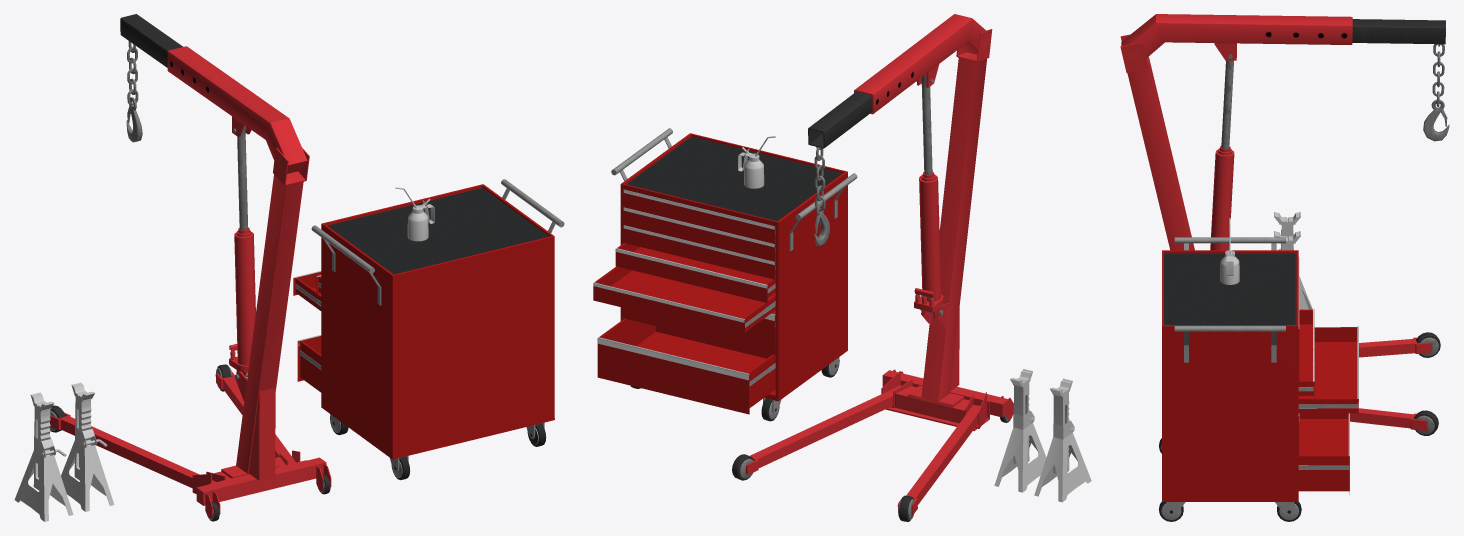
File: garage items.fbx
3 renders of one model, left to right at view 1: azimuth 30°, elevation 25°; view 2: azimuth 150°, elevation 25°; view 3: azimuth 270°, elevation 25°, orthographic. The views are drawn at different scales.
Visible parts, largest first — view 1: Cylinder.001, Cylinder.006, Cube.001, Cube.002, Cylinder.011; view 2: Cylinder.001, Cylinder.006, Cube.001, Cube.002, Cylinder.011; view 3: Cylinder.001, Cylinder.006, Cylinder.011, Cube.001.
Part boxes in pixels (x1,y1,x2,y2): Cylinder.001: (293,179,564,480); Cylinder.006: (50,14,331,521); Cube.001: (14,392,73,521); Cube.002: (61,382,114,511); Cylinder.011: (395,187,434,241); Cylinder.001: (593,128,857,421); Cylinder.006: (732,14,1013,521); Cube.001: (1034,378,1091,502); Cube.002: (994,369,1046,492); Cylinder.011: (738,136,775,188); Cylinder.001: (1159,237,1358,521); Cylinder.006: (1120,14,1449,435); Cylinder.011: (1220,218,1239,284); Cube.001: (1274,212,1312,309).
Size of the model in its own units: 823 by 651 by 513.
